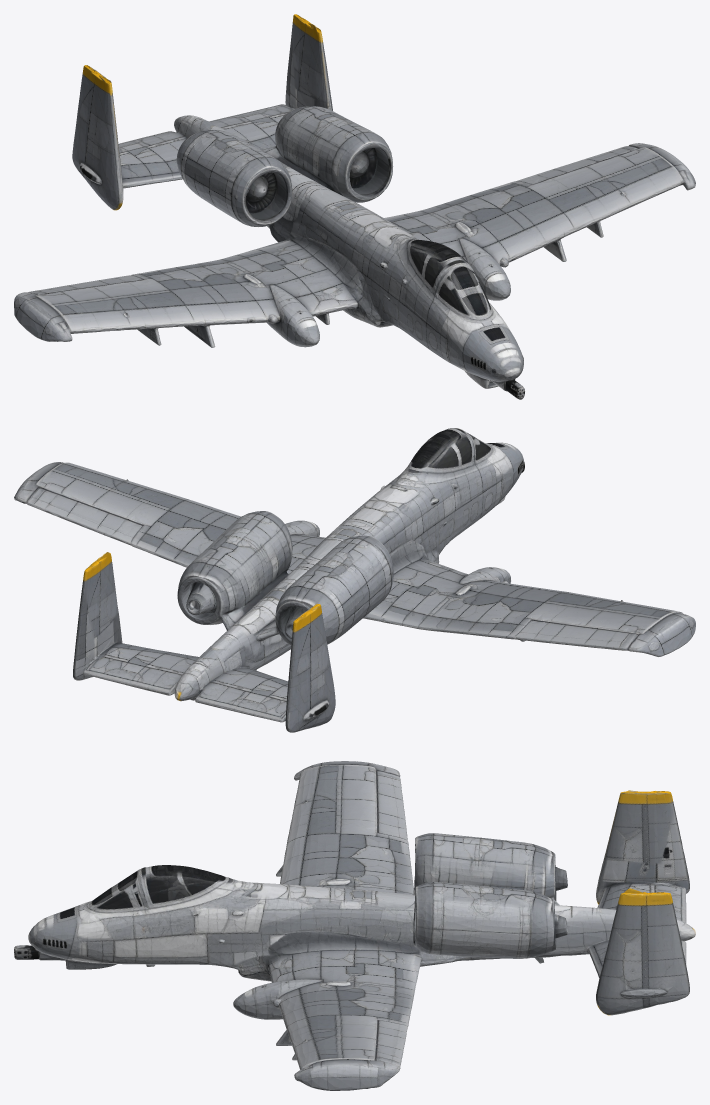
3 renders of one model, top to bottom at view 1: azimuth 30°, elevation 25°; view 2: azimuth 150°, elevation 25°; view 3: azimuth 270°, elevation 25°, orthographic.
Size of the model in its own units: 1.9 by 0.3785 by 1.74.
1 material, 1 textured.
